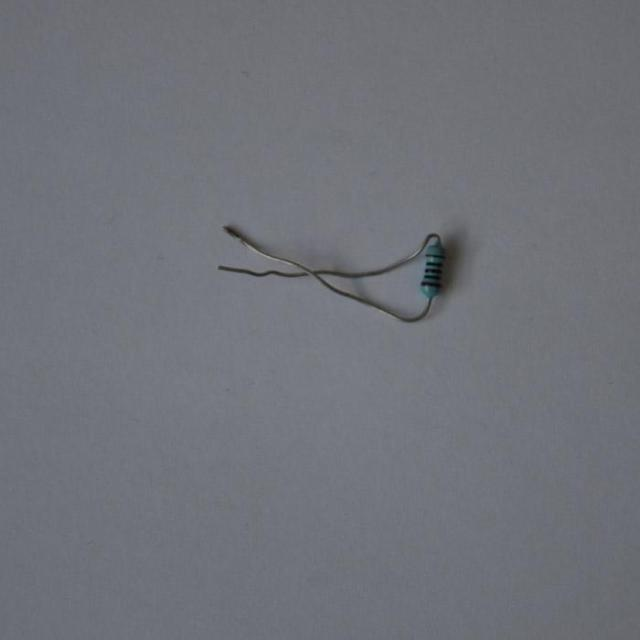Resistor: (421, 240, 445, 299)
black: (425, 269, 443, 274), (426, 263, 445, 266), (424, 276, 442, 279)
brown: (421, 283, 443, 288), (425, 255, 447, 260)
